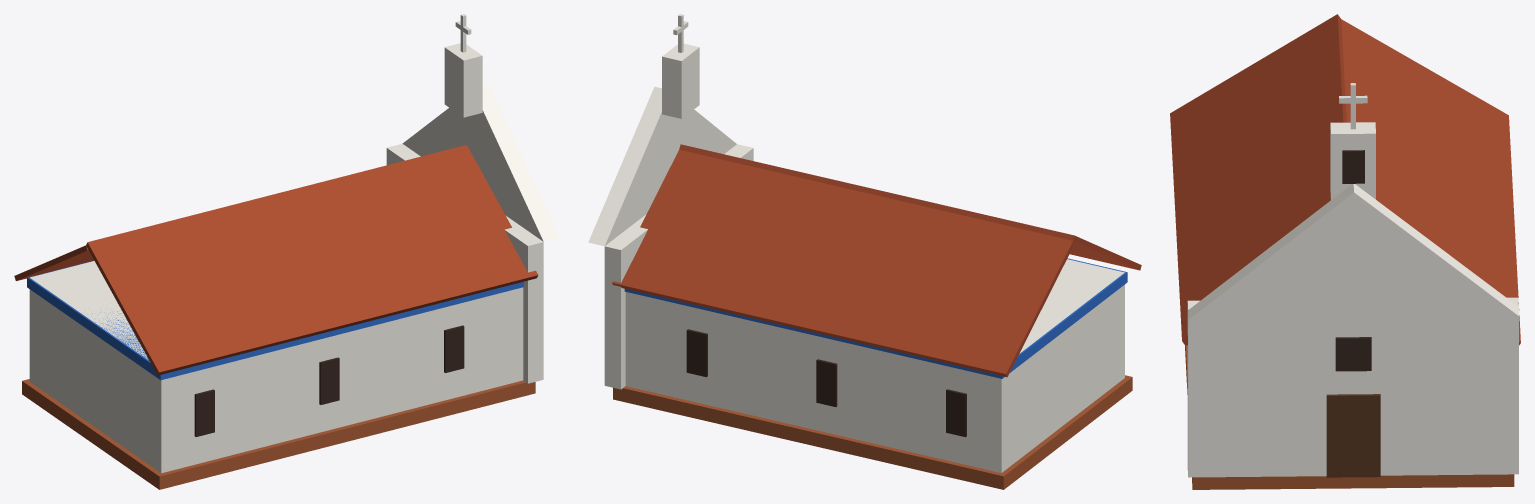
The model's file is sebastian.glb.
3 renders of one model, left to right at view 1: azimuth 30°, elevation 25°; view 2: azimuth 150°, elevation 25°; view 3: azimuth 270°, elevation 25°, orthographic. The views are drawn at different scales.
Visible parts, largest first — view 1: m.001, Cube.001, Cube, m.002, Cube.002, Cube.009, Cube.012, m, Cube.006, Cube.007, Cube.008; view 2: m, Cube.001, Cube, m.002, Cube.009, m.001, Cube.002, Cube.012, Cube.003, Cube.004, Cube.005; view 3: Cube.009, m.001, m, m.002, Cube.010, Cube, Cube.012, Cube.011, Cube.013.
Boxes of the visible parts, x1,y1,x2,y2 form: m.001: (86,145,538,375); Cube.001: (29,261,523,473); Cube: (22,379,535,489); m.002: (402,85,559,241); Cube.002: (27,260,523,380); Cube.009: (386,143,543,383); Cube.012: (444,43,482,117); m: (14,245,93,280); Cube.006: (444,325,464,372); Cube.007: (319,357,339,404); Cube.008: (194,389,214,436); m: (612,149,1074,377); Cube.001: (625,259,1124,472); Cube: (613,375,1132,489); m.002: (588,86,736,246); Cube.009: (604,144,753,389); m.001: (679,144,1141,270); Cube.002: (624,258,1127,378); Cube.012: (662,43,699,118); Cube.003: (686,329,707,377); Cube.004: (816,359,837,406); Cube.005: (946,389,966,437); Cube.009: (1187,297,1518,477); m.001: (1170,14,1346,345); m: (1341,19,1520,345); m.002: (1188,184,1519,319); Cube.010: (1326,394,1380,477); Cube: (1185,345,1514,489); Cube.012: (1330,122,1375,199); Cube.011: (1335,337,1371,371); Cube.013: (1342,150,1364,183).
Size of the model in its own units: 25.77 by 19.72 by 15.59.
